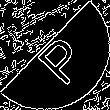P_NW: (23, 24, 87, 86)
